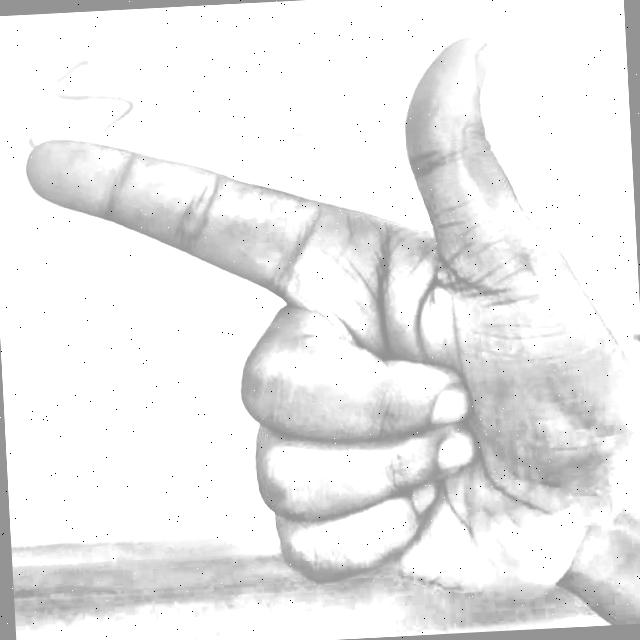Tha: (11, 12, 626, 635)
